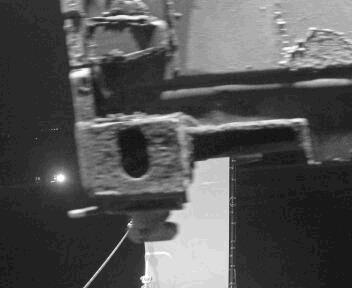twist_lock_1: (137, 194, 216, 249)
